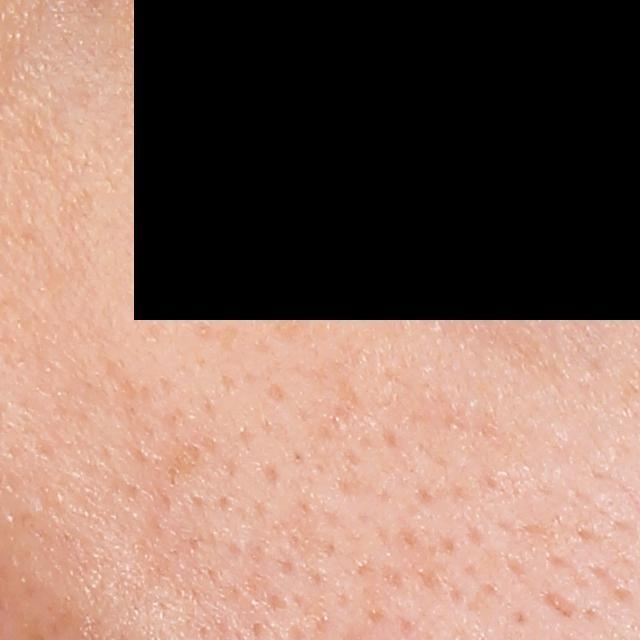atrophic_scar: (539, 588, 586, 622)
